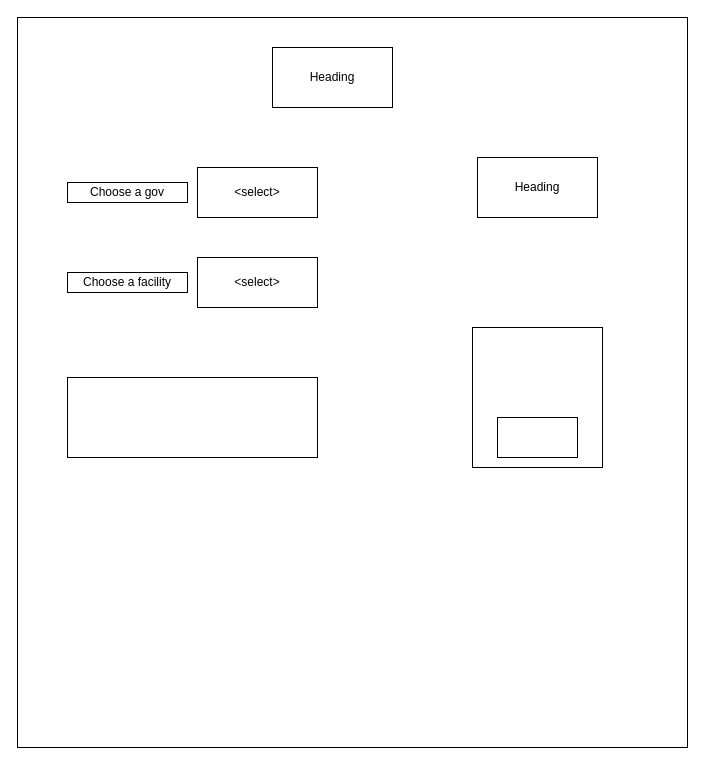
Image size: 705x765. Some labels were removed from this diagram. Each missing label, with the centre of its shape:
conditional radio <radio>: point 192,417
Purchase B <button>: point 537,437
